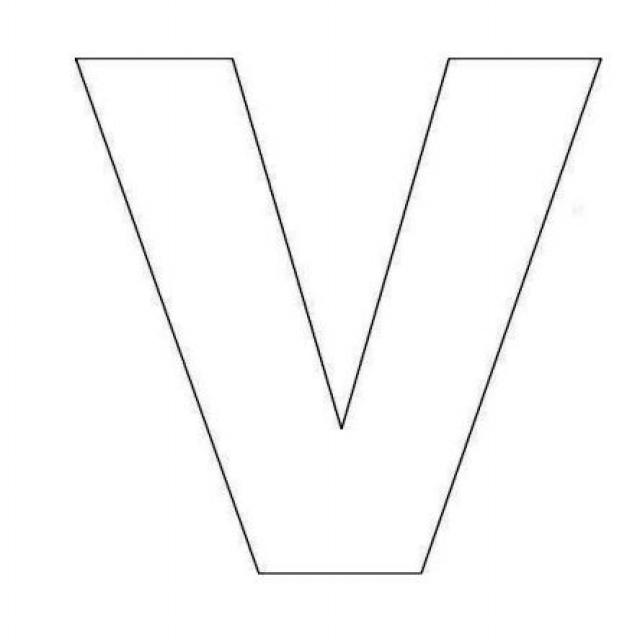V: (35, 26, 607, 600)
